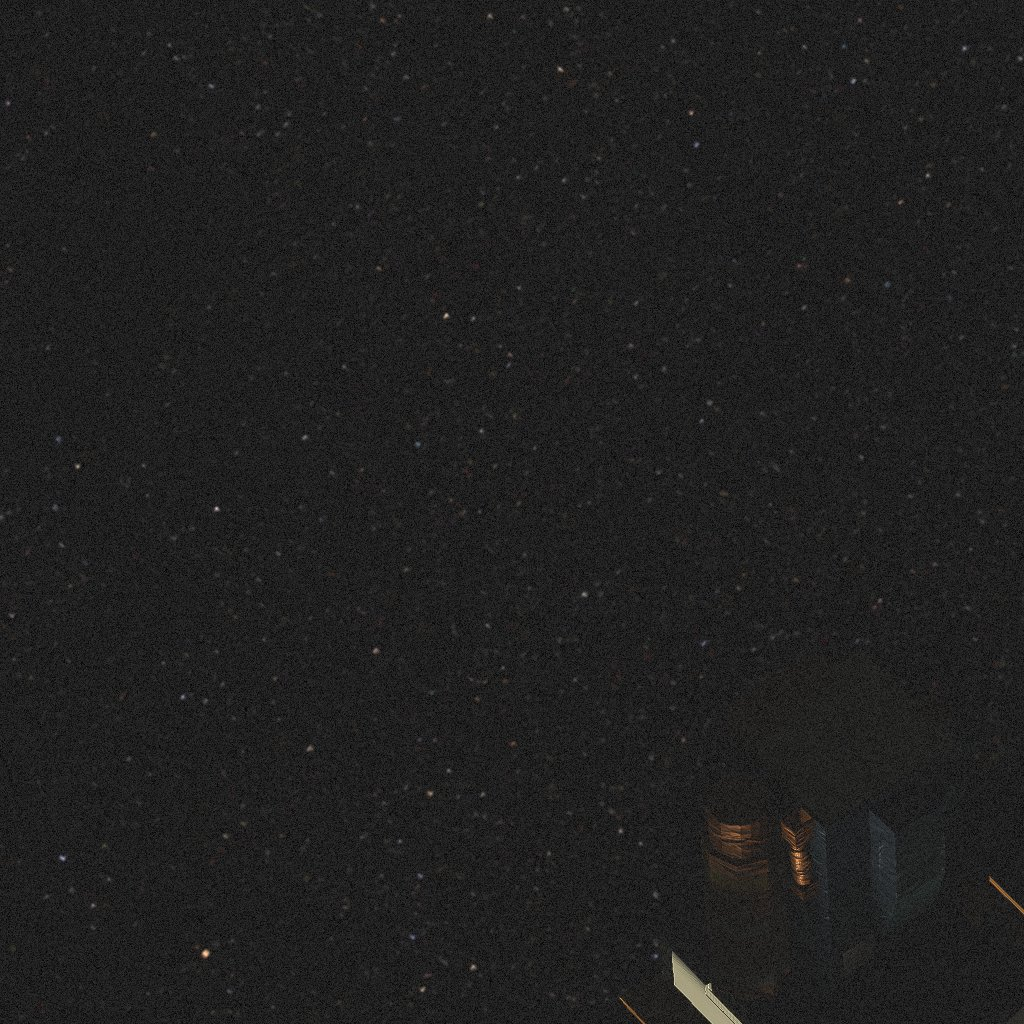soho: (571, 647, 1024, 1024)
